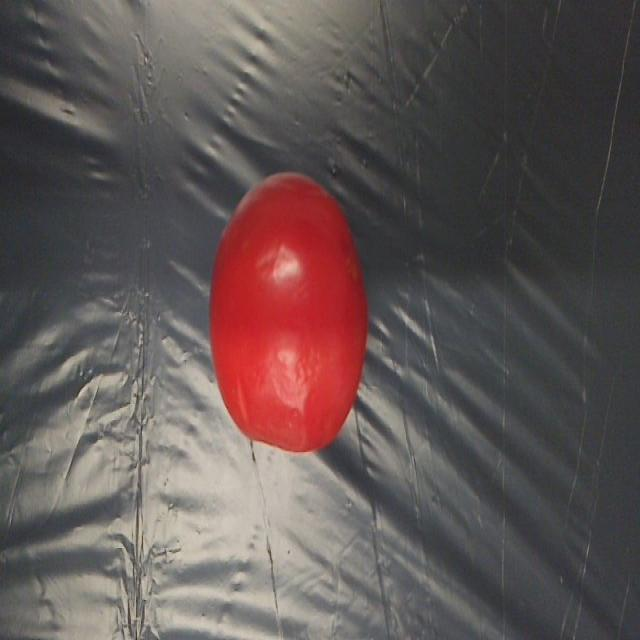kirmizi: (187, 148, 376, 464)
